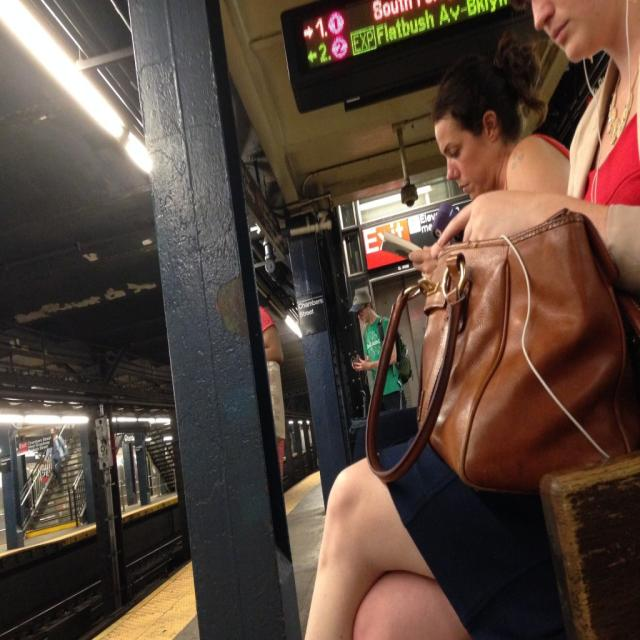body: (409, 35, 574, 279), (429, 24, 569, 208), (347, 288, 408, 412), (258, 304, 287, 485), (43, 426, 69, 492)
